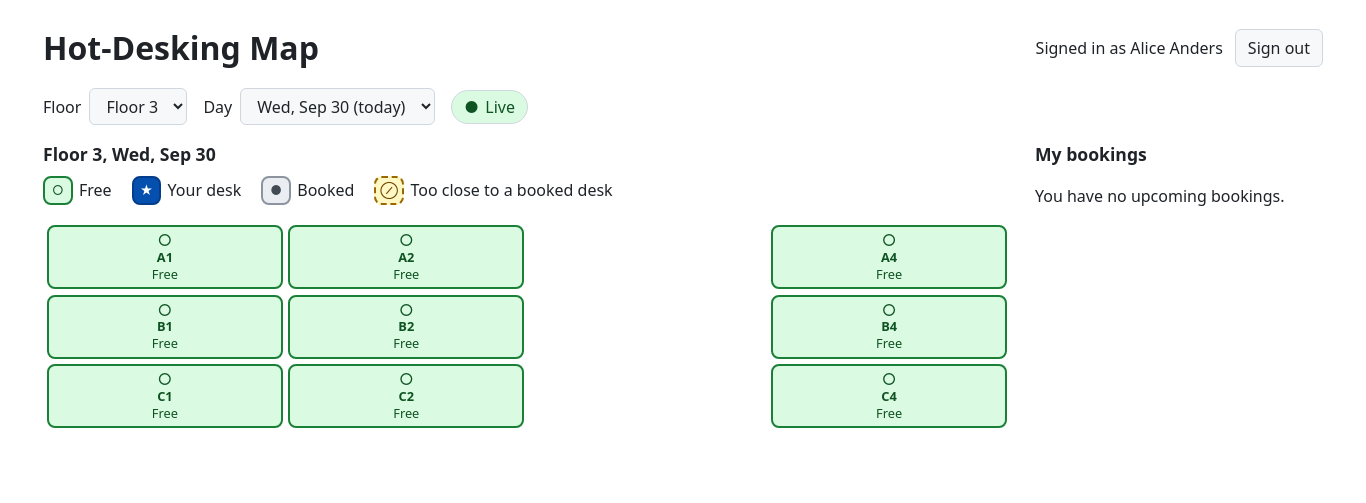
Test: optimistic booking › rolls back on a 409 and shows the reason from the error code
Expected: the table is shown, [47,225,1007,428]
Click the button "○ A2 Free".
click(406, 257)  # box [288,225,524,289]
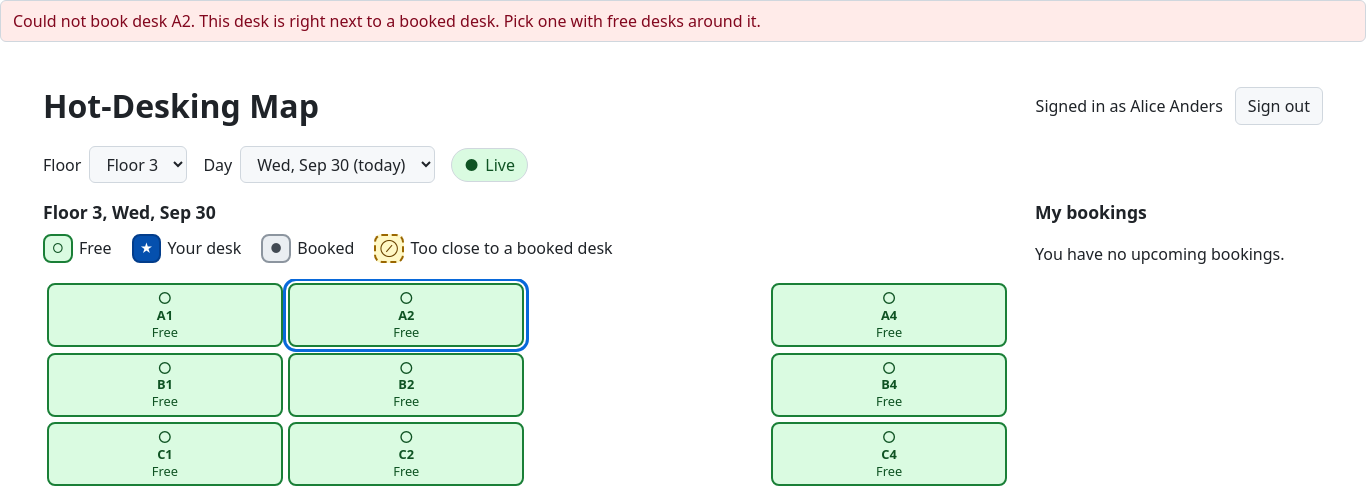
Expected: the message shows "Could not book desk A2. This desk is right next to a booked desk. Pick one with free desks around it.", [13,10,761,32]
